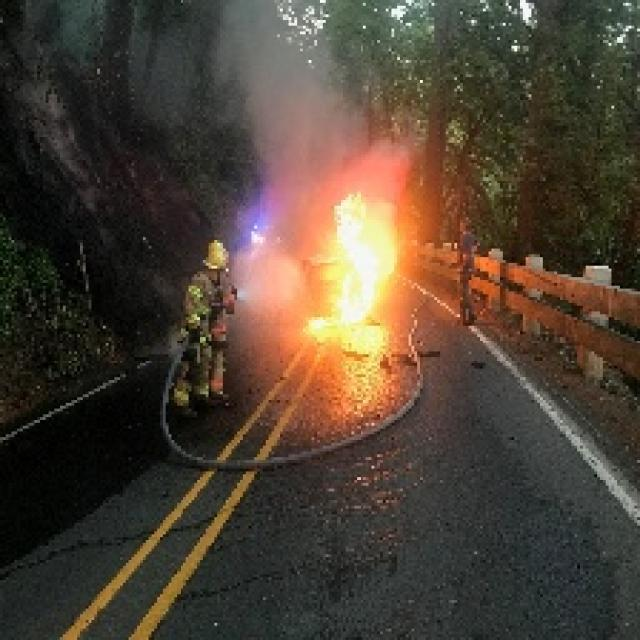Fire: (308, 197, 402, 328)
Smoke: (220, 0, 408, 195)
